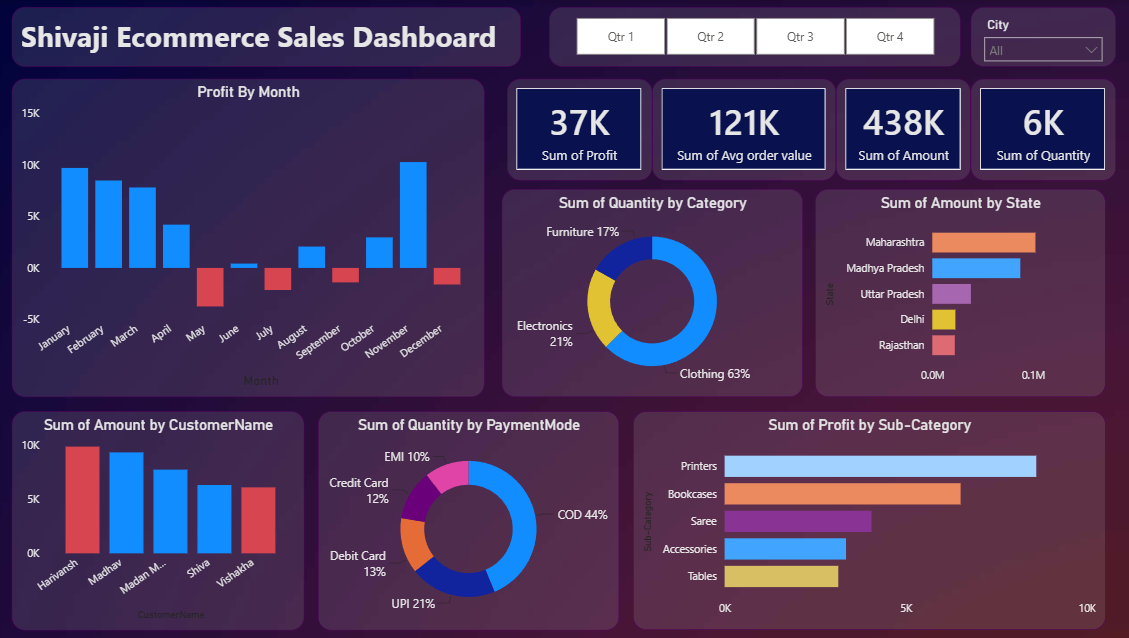

This screenshot's page, from the dashboard's own definition file:
{"tool":"powerbi","page":{"name":"Page 1","canvas":[1280,720],"ordinal":0},"visuals":[{"type":"textbox","box":[17.8,7.9,574.9,67.2],"z":0},{"type":"columnChart","title":"Profit By Month","fields":{"Y":["Sum(Details.Profit)"],"Category":["Orders.Order Date.Variation.Date Hierarchy.Month"]},"box":[17.8,88.9,533.4,359.6],"z":1000},{"type":"barChart","fields":{"Category":["Details.Sub-Category"],"Y":["Sum(Details.Profit)"]},"box":[719.2,464.3,533.4,247],"z":2000},{"type":"donutChart","fields":{"Category":["Details.Category"],"Y":["Sum(Details.Quantity)"]},"box":[571,213.4,339.8,235.1],"z":3000},{"type":"donutChart","fields":{"Category":["Details.PaymentMode"],"Y":["Sum(Details.Quantity)"]},"box":[362.9,464.3,340,247.1],"z":4000},{"type":"cardVisual","fields":{"Data":["Sum(Details.Amount)"]},"box":[948.4,88.9,152.1,114.6],"z":5000},{"type":"cardVisual","fields":{"Data":["Sum(Details.Profit)"]},"box":[576.9,88.9,164,114.6],"z":6000},{"type":"cardVisual","fields":{"Data":["Sum(Details.Quantity)"]},"box":[1100.5,88.9,164,114.6],"z":7000},{"type":"cardVisual","fields":{"Data":["Sum(Details.Avg order value)"]},"box":[740.9,88.9,207.5,114.6],"z":8000},{"type":"barChart","fields":{"Category":["Orders.State"],"Y":["Sum(Details.Amount)"]},"box":[924.6,213.4,328,235.1],"z":9000},{"type":"columnChart","fields":{"Category":["Orders.CustomerName"],"Y":["Sum(Details.Amount)"]},"box":[17.1,464.3,330,247.1],"z":10000},{"type":"slicer","fields":{"Values":["Orders.Order Date.Variation.Date Hierarchy.Quarter"]},"box":[624.3,7.9,464.3,67.2],"z":11000},{"type":"slicer","fields":{"Values":["Orders.City"]},"box":[1100.5,7.9,164,67.2],"z":12000}]}

Visuals, with their boxes in screenshot pixels (x1, y1, x2, y2), scaled from the page's 1280x720 canvas onto the 1129x638 screenshot:
textbox: {"x1": 16, "y1": 7, "x2": 523, "y2": 67}
"Profit By Month" columnChart: {"x1": 16, "y1": 79, "x2": 486, "y2": 397}
barChart - Details.Sub-Category x Sum(Details.Profit): {"x1": 634, "y1": 411, "x2": 1105, "y2": 630}
donutChart - Details.Category x Sum(Details.Quantity): {"x1": 504, "y1": 189, "x2": 803, "y2": 397}
donutChart - Details.PaymentMode x Sum(Details.Quantity): {"x1": 320, "y1": 411, "x2": 620, "y2": 630}
cardVisual - Sum(Details.Amount): {"x1": 837, "y1": 79, "x2": 971, "y2": 180}
cardVisual - Sum(Details.Profit): {"x1": 509, "y1": 79, "x2": 653, "y2": 180}
cardVisual - Sum(Details.Quantity): {"x1": 971, "y1": 79, "x2": 1115, "y2": 180}
cardVisual - Sum(Details.Avg order value): {"x1": 653, "y1": 79, "x2": 837, "y2": 180}
barChart - Orders.State x Sum(Details.Amount): {"x1": 816, "y1": 189, "x2": 1105, "y2": 397}
columnChart - Orders.CustomerName x Sum(Details.Amount): {"x1": 15, "y1": 411, "x2": 306, "y2": 630}
slicer - Orders.Order Date.Variation.Date Hierarchy.Quarter: {"x1": 551, "y1": 7, "x2": 960, "y2": 67}
slicer - Orders.City: {"x1": 971, "y1": 7, "x2": 1115, "y2": 67}
